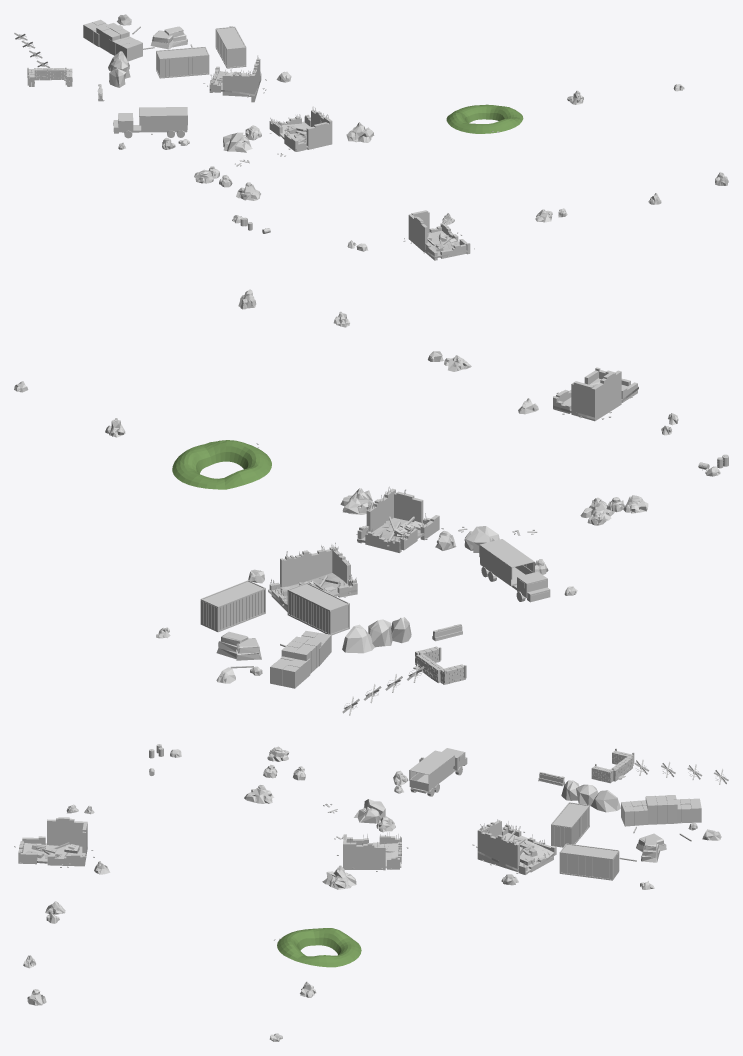
File: outdoor_33.glb
3 renders of one model, top to bottom at view 1: azimuth 30°, elevation 25°; view 2: azimuth 150°, elevation 25°; view 3: azimuth 270°, elevation 25°, orthographic. The views are drawn at different scales.
Parts seen in each view (by area): view 1: gas_station_town; view 2: gas_station_town; view 3: gas_station_town.
Part boxes in pixels (bbox=[...]): gas_station_town: bbox=[14, 14, 728, 260]; gas_station_town: bbox=[14, 289, 728, 715]; gas_station_town: bbox=[14, 744, 728, 1041].
Size of the model in its own units: 70.5 by 5.87 by 79.12.
Materials: 2 (1 with a texture image).
